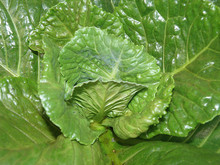cabbage: (14, 2, 213, 162)
